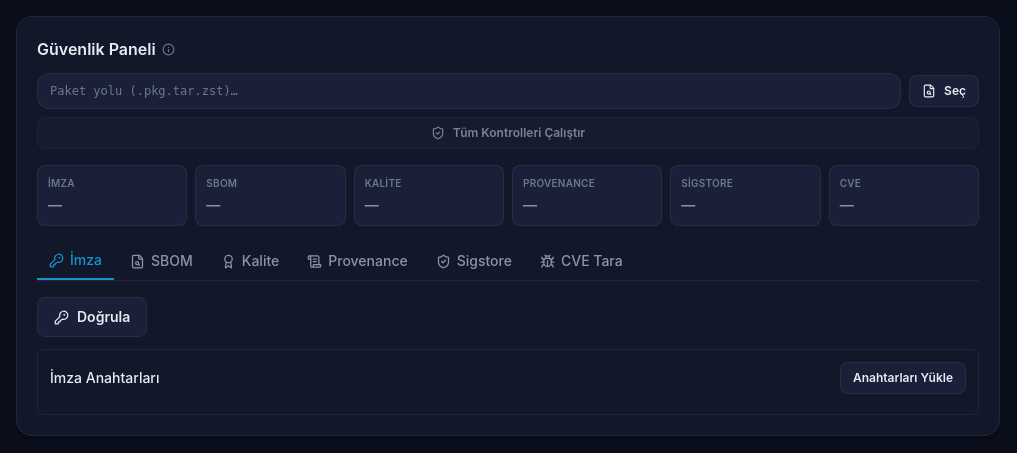
it: Security page — tab panelleri ve branch kapsami › ozet kartindaki duruma tiklayinca ilgili tab acilir
Click the button with aria-label "SBOM durumu: —".
click(270, 196)  # box [195, 165, 346, 226]
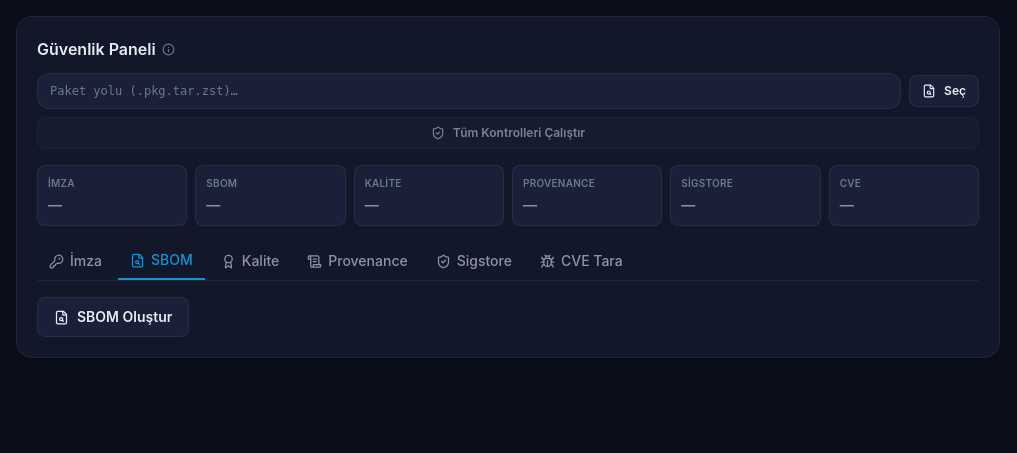
Expected: the button "SBOM Oluştur" is shown, [37, 297, 189, 337]
Click the button with aria-label "CVE durumu: —".
click(904, 196)  # box [829, 165, 979, 226]
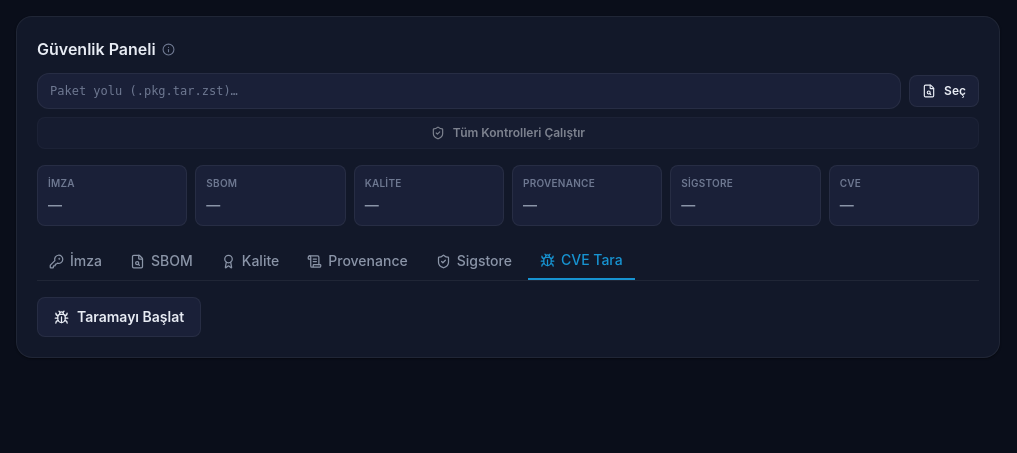
Expected: the button "Taramayı Başlat" is shown, [37, 297, 201, 337]
